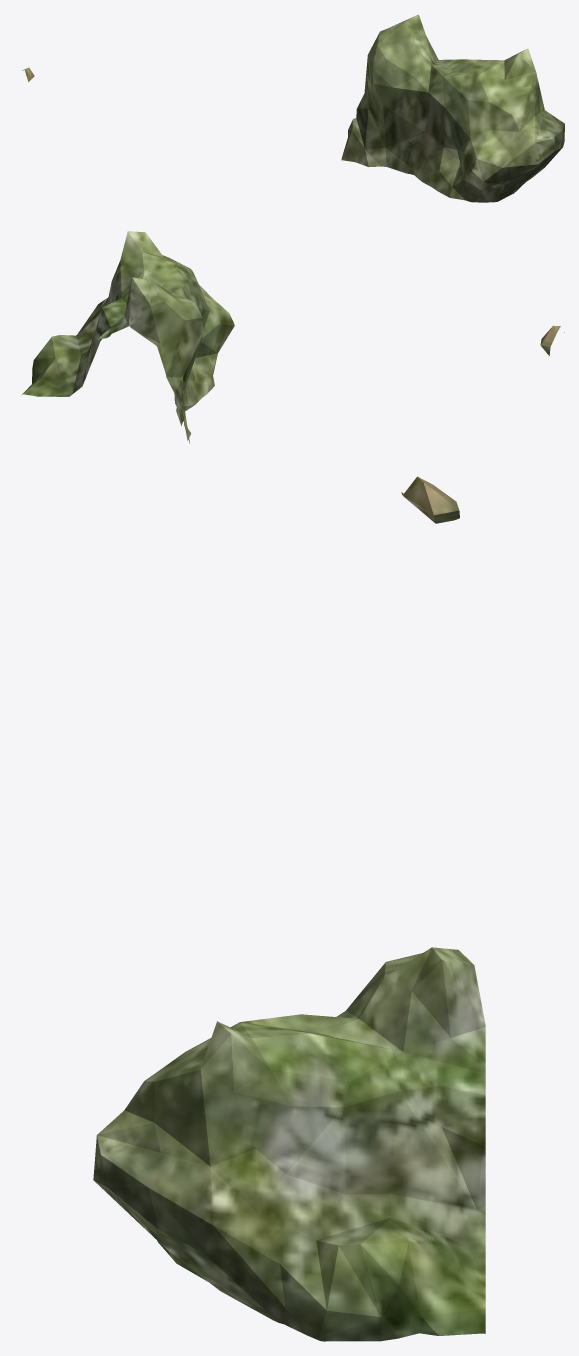
The picture shows the model from 3 angles, top to bottom: view 1: azimuth 30°, elevation 25°; view 2: azimuth 150°, elevation 25°; view 3: azimuth 270°, elevation 25°; orthographic projection. The views are drawn at different scales.
Size of the model in its own units: 2.54 by 0.8768 by 0.8461.
1 material, 1 textured.
